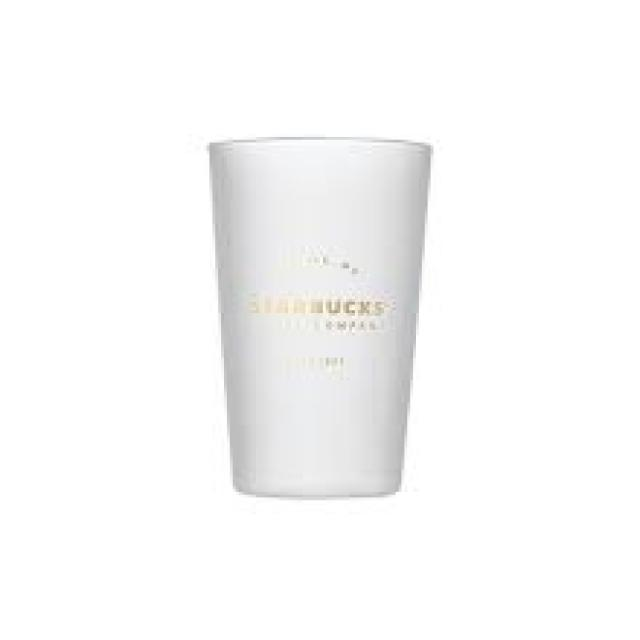glass: (204, 134, 428, 495)
